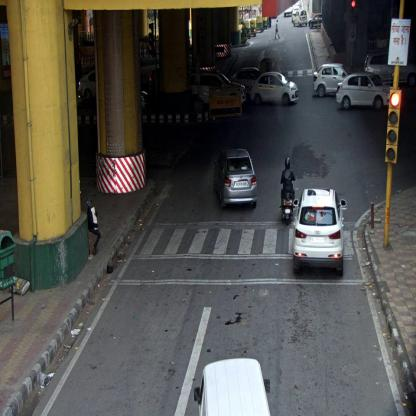car: (290, 187, 347, 281), (215, 147, 258, 211), (337, 72, 391, 113), (364, 51, 416, 89), (196, 72, 246, 109), (251, 72, 299, 106), (314, 62, 348, 100), (308, 12, 322, 30), (294, 10, 307, 29)
motorcycle: (279, 155, 295, 228)
